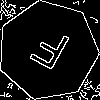F: (23, 25, 73, 80)
